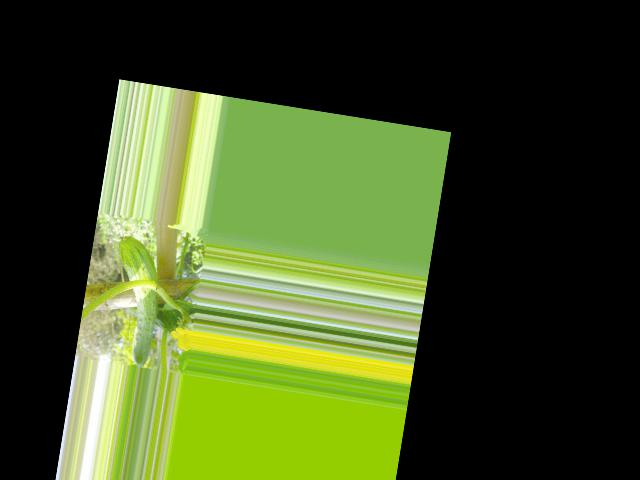cucumber: (101, 235, 167, 368)
